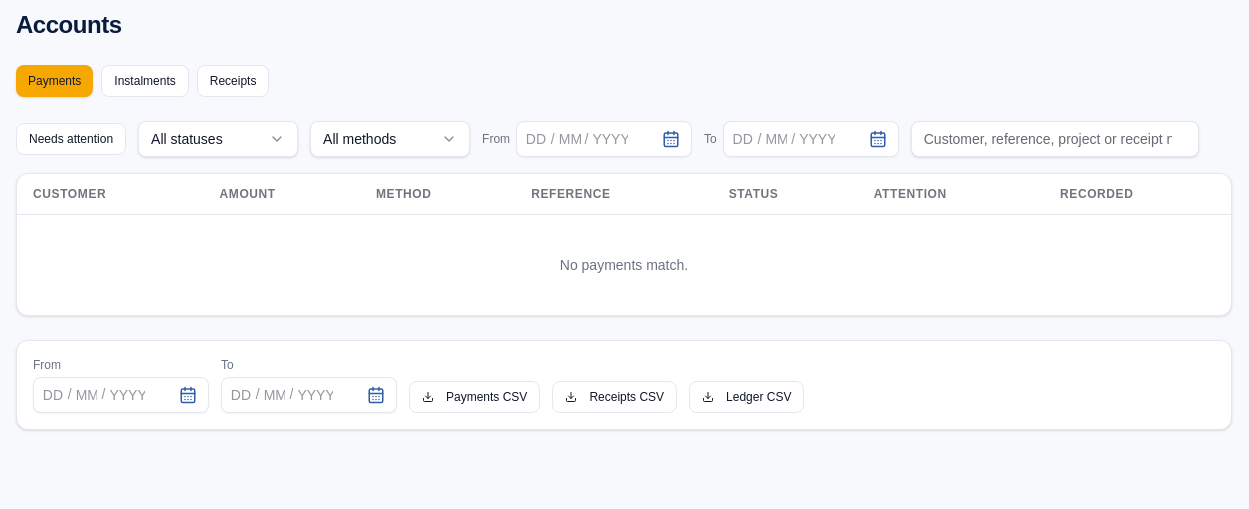
Test: Accounts workspace — rows say who the customer is (customer_name, project_reference_id) › instalments tab: customer name and code replace "Project n", filterable, still linking to the project
Step 1. Click the tab "Instalments" → coordinates (145, 81), box [101,65,189,97]
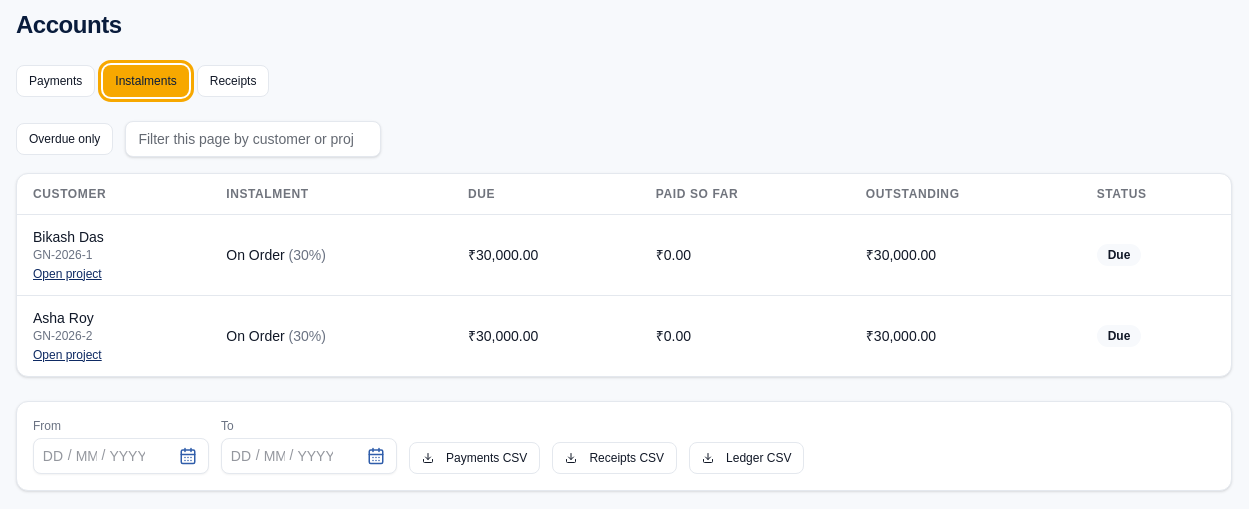
Result: the row with test id "milestone-row" shows "Bikash Das" at [33,228,104,244]
Result: the row with test id "milestone-row" shows "GN-2026-1" at [33,248,92,262]
Step 2. Type "GN-2026-2" into the search field → coordinates (253, 139), box [125,121,381,157]
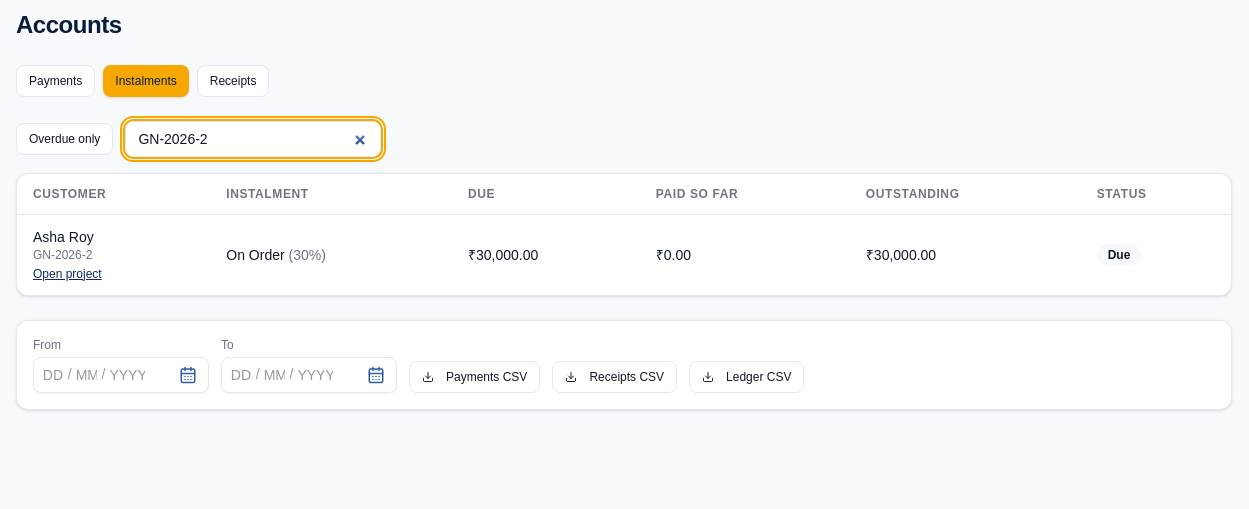
Result: the row with test id "milestone-row" shows "Asha Roy" at [33,228,94,244]
Result: the number of rows with test id "milestone-row" is 1 at [17,214,1231,294]
